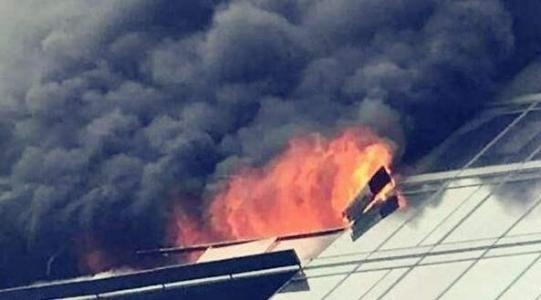fire: (199, 130, 402, 248)
